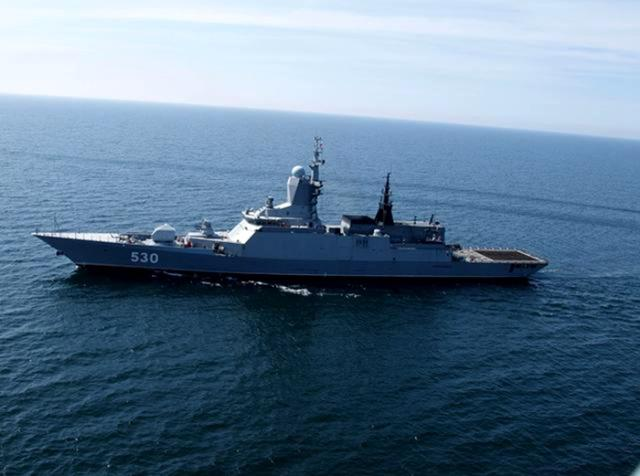warship: (28, 140, 554, 278)
